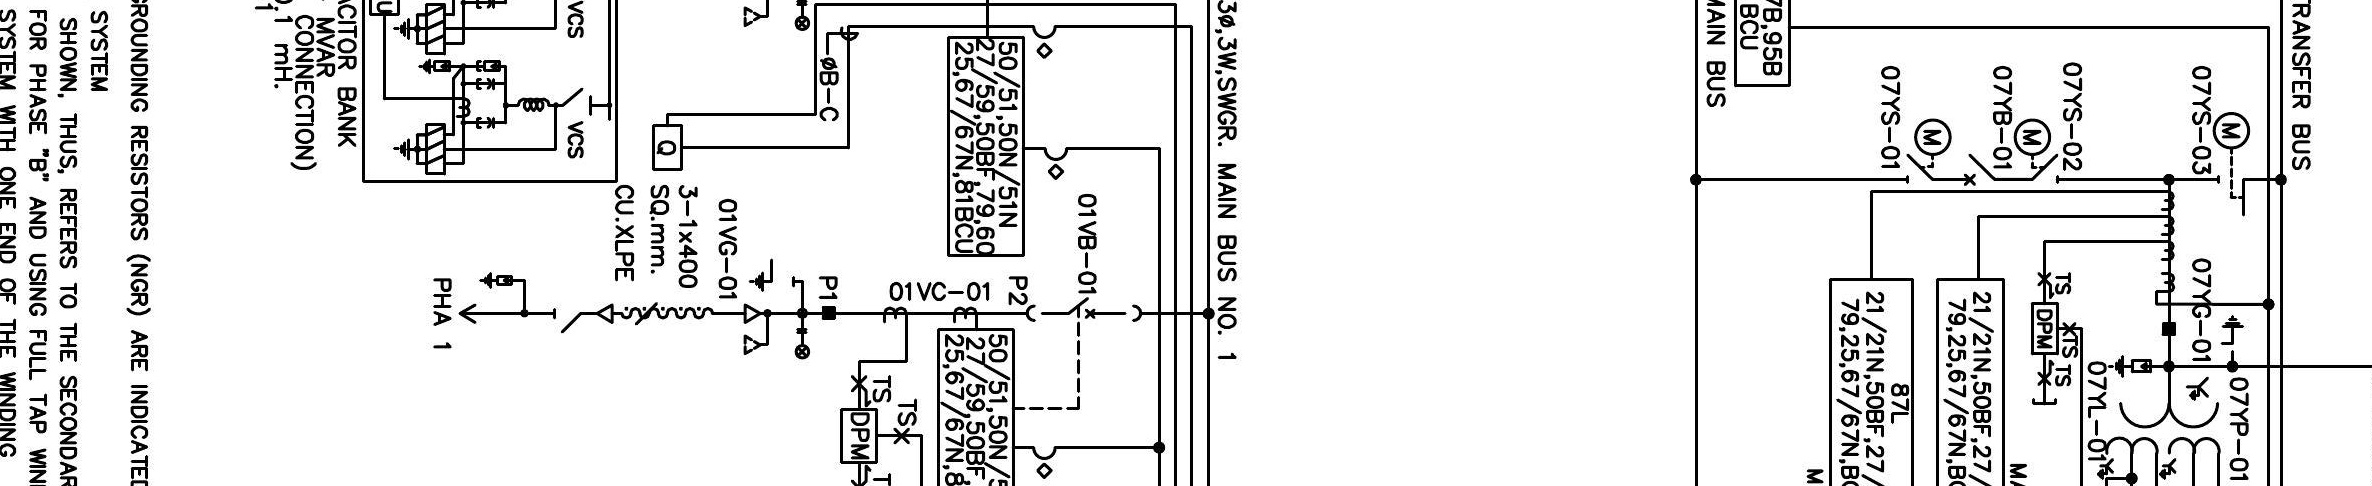115_1way_ds_w_motor: (2212, 110, 2251, 218), (1905, 117, 1953, 185), (2013, 117, 2060, 185)
115_breaker: (1964, 153, 1996, 187)
115_gs: (2220, 314, 2245, 355)
115_la: (2107, 354, 2152, 379)
22_breaker: (1025, 296, 1143, 323)
22_ds_la_out: (458, 271, 581, 334)
22_gs: (748, 258, 796, 293)
22_ll: (793, 327, 811, 361)
DPM: (839, 407, 879, 465), (2031, 302, 2059, 356)
Q: (652, 124, 683, 171)
terminator_single: (596, 303, 615, 325)
terminator_w_future: (743, 302, 770, 356)
